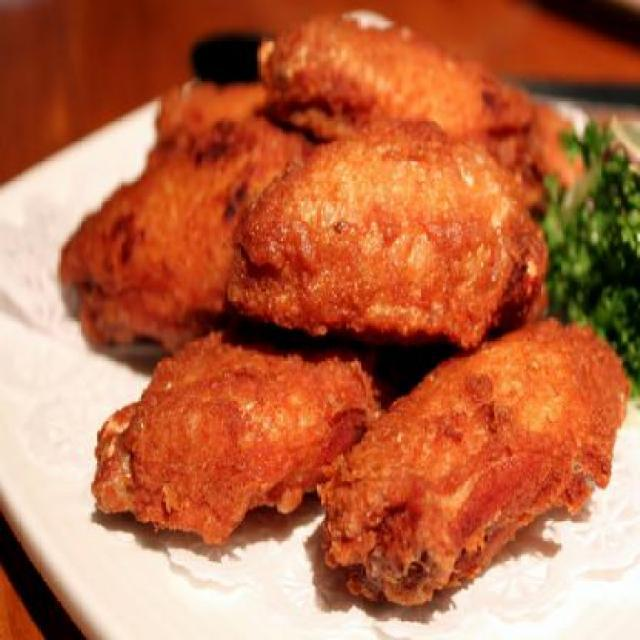Deep fried chicken wing: (326, 314, 640, 616), (222, 104, 570, 353), (77, 316, 380, 547)
